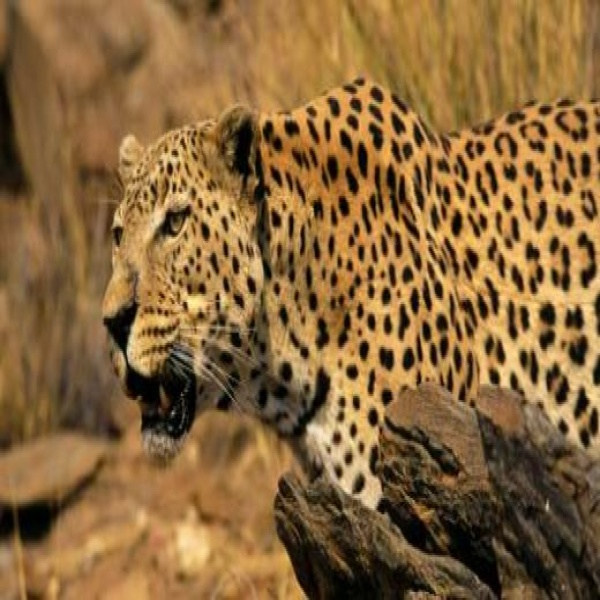Leopard: (96, 71, 600, 512)
